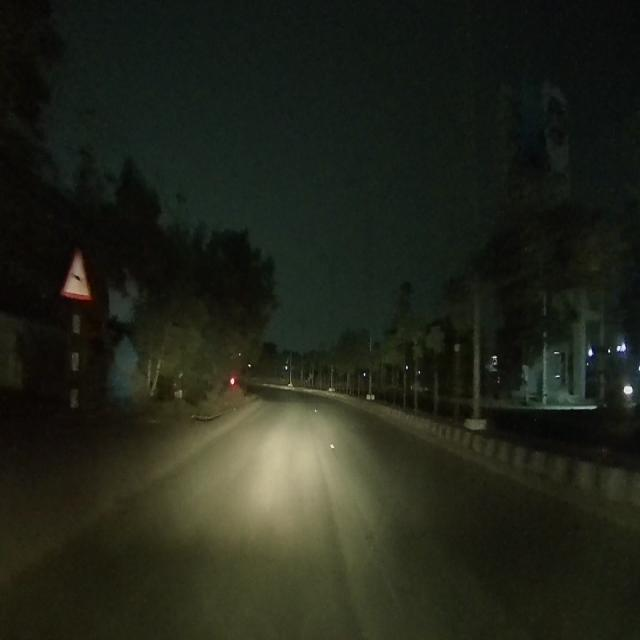left-hand-curve: (54, 236, 98, 312)
